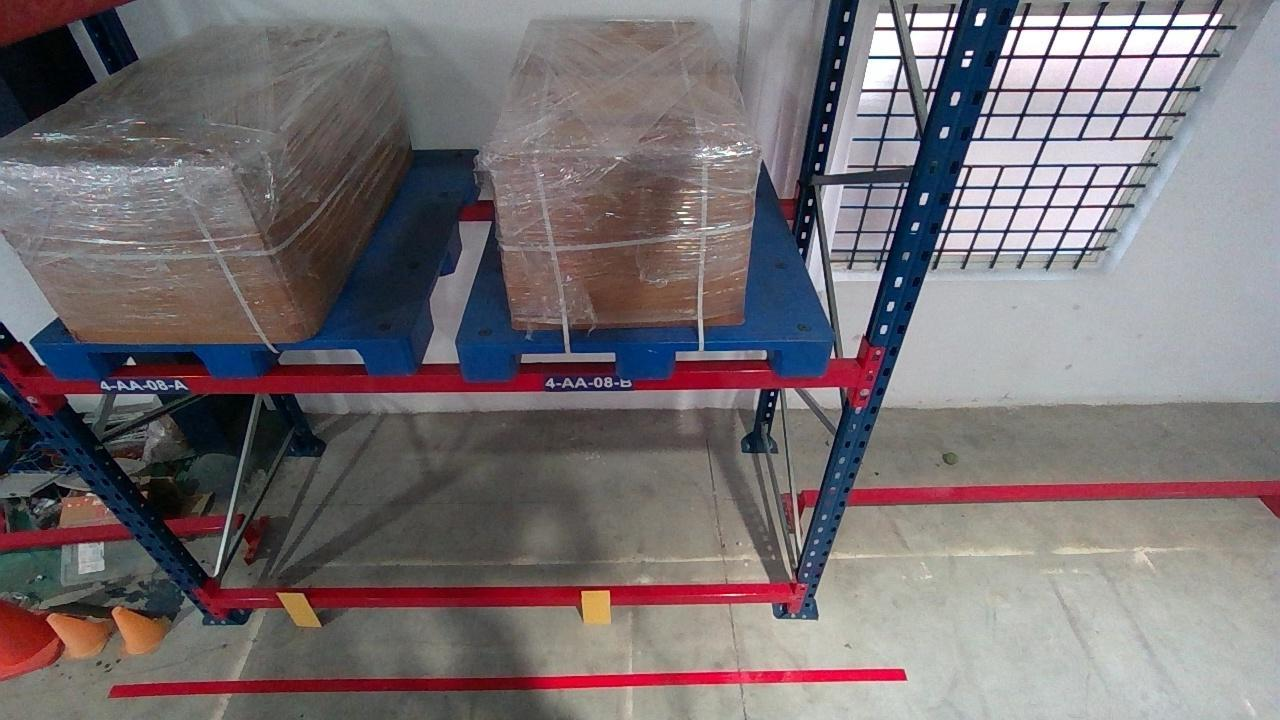h_rack: (19, 366, 864, 394), (211, 592, 795, 609)
orange_strip: (273, 592, 322, 627), (579, 590, 610, 624)
red_line: (103, 667, 910, 693)
small_pallet: (457, 340, 835, 379), (40, 340, 409, 377)
